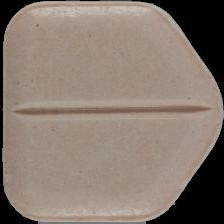57664-396: (0, 0, 224, 224)
